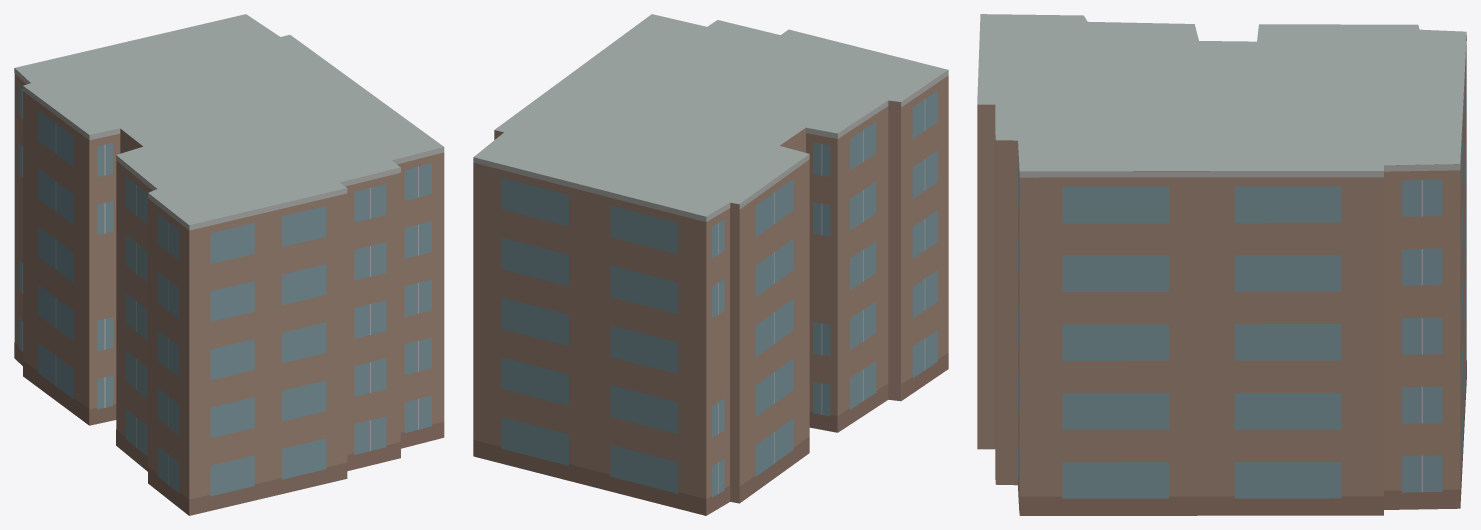
Rendered from survey-upis-32977983.glb.
3 renders of one model, left to right at view 1: azimuth 30°, elevation 25°; view 2: azimuth 150°, elevation 25°; view 3: azimuth 270°, elevation 25°, orthographic. The views are drawn at different scales.
Visible parts, largest first — view 1: survey-upis-32977983.tmp; view 2: survey-upis-32977983.tmp; view 3: survey-upis-32977983.tmp.
Part boxes in pixels (<box>): survey-upis-32977983.tmp: <box>14,14,444,515</box>; survey-upis-32977983.tmp: <box>473,14,948,515</box>; survey-upis-32977983.tmp: <box>977,14,1466,515</box>.
Size of the model in its own units: 13.12 by 13.4 by 17.27.
